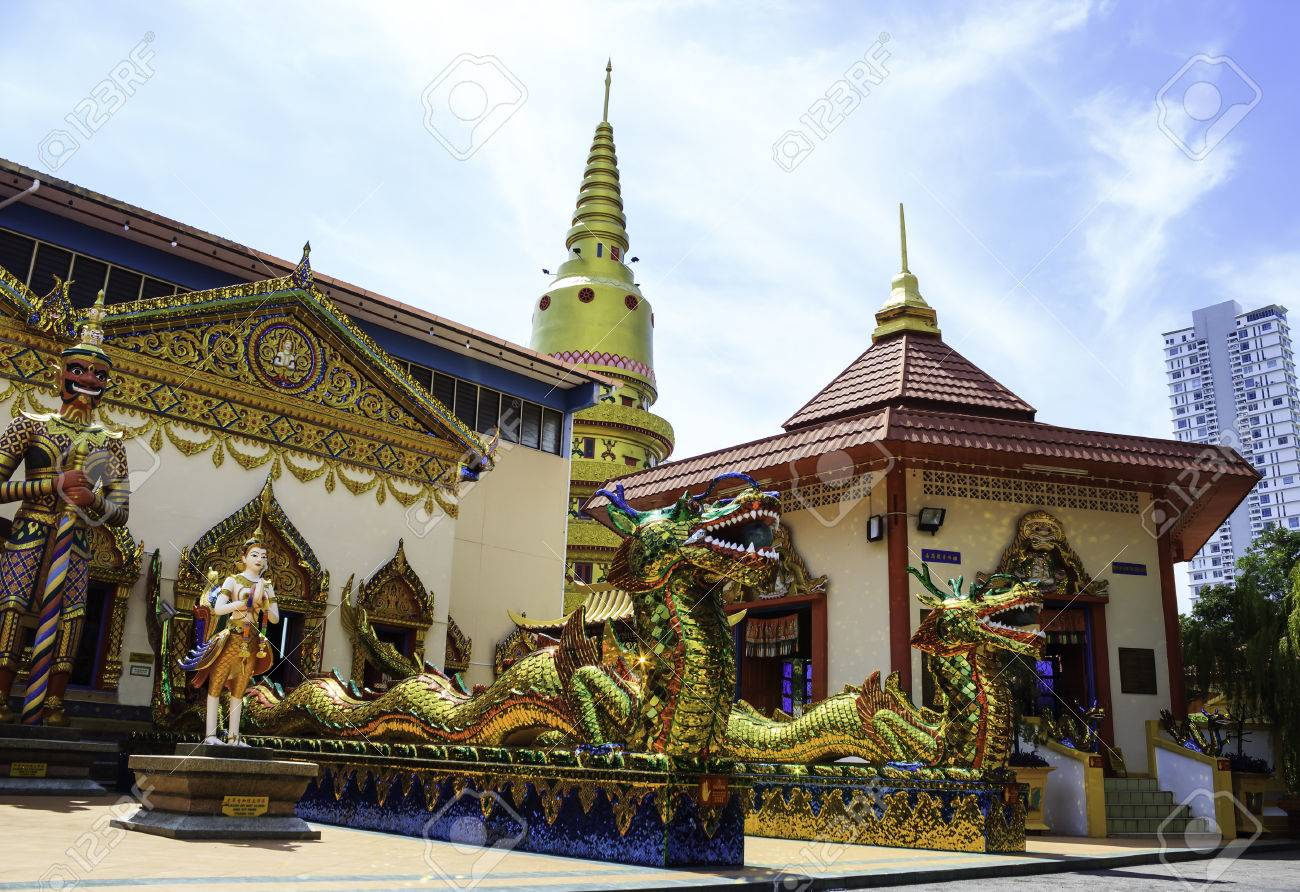Buddhist Temple: (10, 76, 1195, 845)
